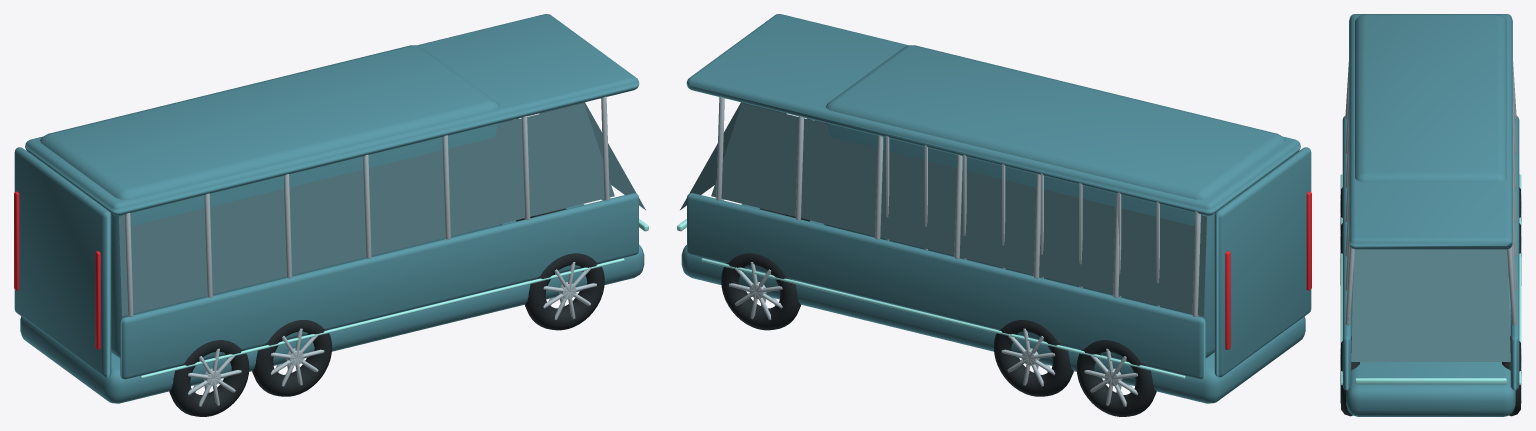
The model's file is FutureTruck.fbx.
3 renders of one model, left to right at view 1: azimuth 30°, elevation 25°; view 2: azimuth 150°, elevation 25°; view 3: azimuth 270°, elevation 25°, orthographic. The views are drawn at different scales.
Parts seen in each view (by area): view 1: BodyPaintFuture, GlazingFuture, BrushedAlloyFuture, TrimRubberFuture.002, TrimRubberFuture.001, TrimRubberFuture, HeadlampFuture, TaillampFuture, BrushedAlloyFuture.003, BrushedAlloyFuture.002, BrushedAlloyFuture.001; view 2: BodyPaintFuture, GlazingFuture, BrushedAlloyFuture, TrimRubberFuture.005, TrimRubberFuture.004, TrimRubberFuture.003, HeadlampFuture, TaillampFuture, BrushedAlloyFuture.006, BrushedAlloyFuture.005, BrushedAlloyFuture.004; view 3: BodyPaintFuture, GlazingFuture, BrushedAlloyFuture, HeadlampFuture, TrimRubberFuture, TrimRubberFuture.003.
Part boxes in pixels (left/top/right/bottom): BodyPaintFuture: left=14, top=14, right=644, bottom=403; GlazingFuture: left=119, top=102, right=645, bottom=316; BrushedAlloyFuture: left=125, top=96, right=609, bottom=316; TrimRubberFuture.002: left=252, top=320, right=331, bottom=396; TrimRubberFuture.001: left=169, top=340, right=249, bottom=416; TrimRubberFuture: left=525, top=253, right=604, bottom=330; HeadlampFuture: left=140, top=197, right=648, bottom=378; TaillampFuture: left=14, top=191, right=100, bottom=349; BrushedAlloyFuture.003: left=270, top=328, right=324, bottom=386; BrushedAlloyFuture.002: left=188, top=348, right=241, bottom=406; BrushedAlloyFuture.001: left=543, top=262, right=596, bottom=319; BodyPaintFuture: left=681, top=14, right=1311, bottom=403; GlazingFuture: left=680, top=102, right=1206, bottom=316; BrushedAlloyFuture: left=716, top=96, right=1200, bottom=316; TrimRubberFuture.005: left=994, top=320, right=1073, bottom=396; TrimRubberFuture.004: left=1076, top=340, right=1156, bottom=416; TrimRubberFuture.003: left=721, top=253, right=800, bottom=330; HeadlampFuture: left=677, top=197, right=1185, bottom=378; TaillampFuture: left=1225, top=191, right=1311, bottom=349; BrushedAlloyFuture.006: left=1001, top=328, right=1055, bottom=386; BrushedAlloyFuture.005: left=1084, top=348, right=1137, bottom=406; BrushedAlloyFuture.004: left=729, top=262, right=782, bottom=319; BodyPaintFuture: left=1342, top=14, right=1519, bottom=416; GlazingFuture: left=1348, top=249, right=1513, bottom=361; BrushedAlloyFuture: left=1345, top=62, right=1516, bottom=325; HeadlampFuture: left=1340, top=174, right=1521, bottom=384; TrimRubberFuture: left=1341, top=336, right=1359, bottom=416; TrimRubberFuture.003: left=1502, top=336, right=1520, bottom=416.
Bounding box in the file's own units: 798 × 331 × 257.
